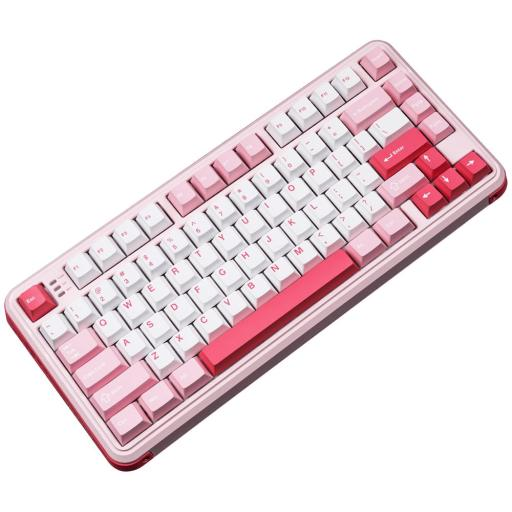KEYBOARD-2: (15, 32, 503, 494)
